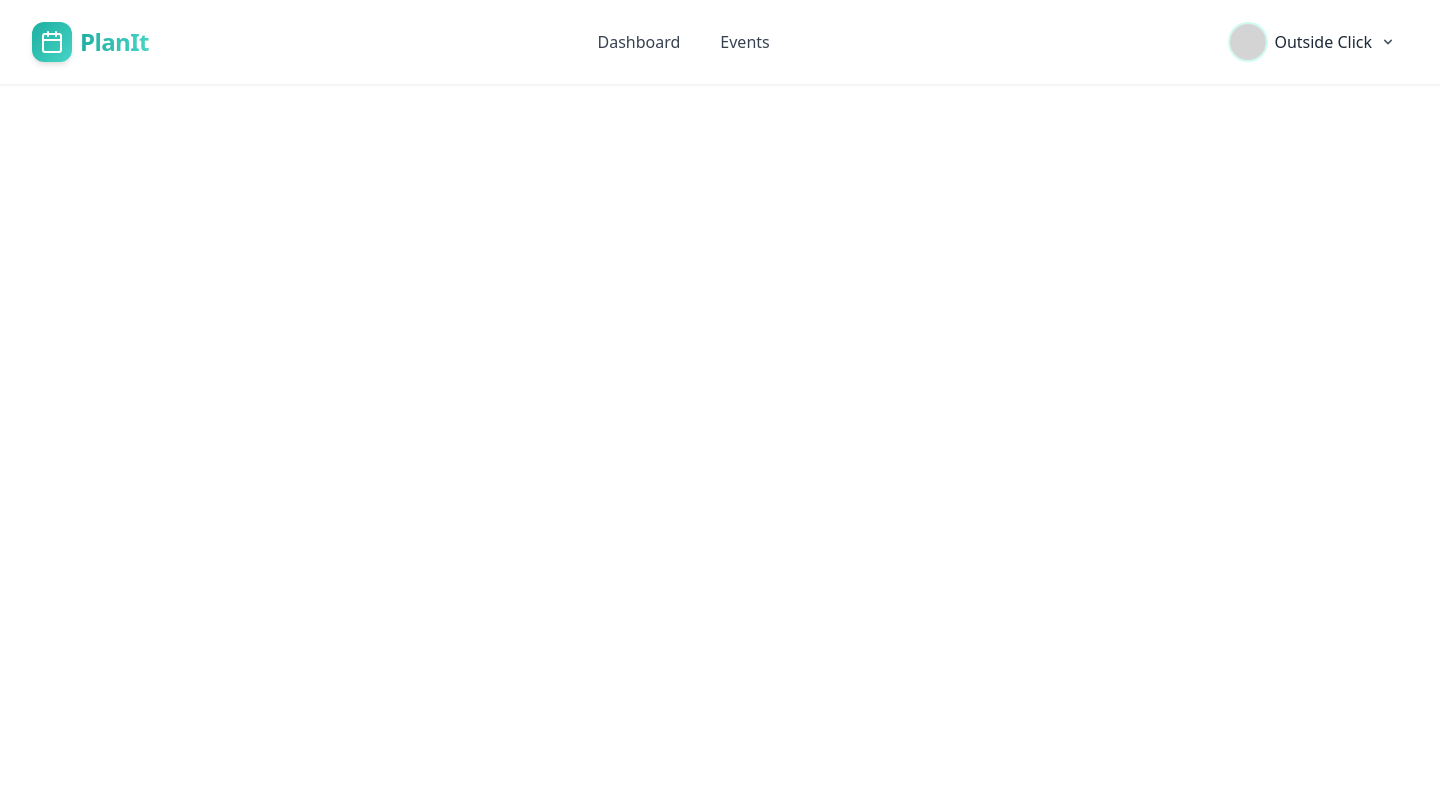
Test: Navbar Component › closes dropdown when clicking outside
Click the text "Outside Click" at point(1323, 42), box [1274,30,1372,54]
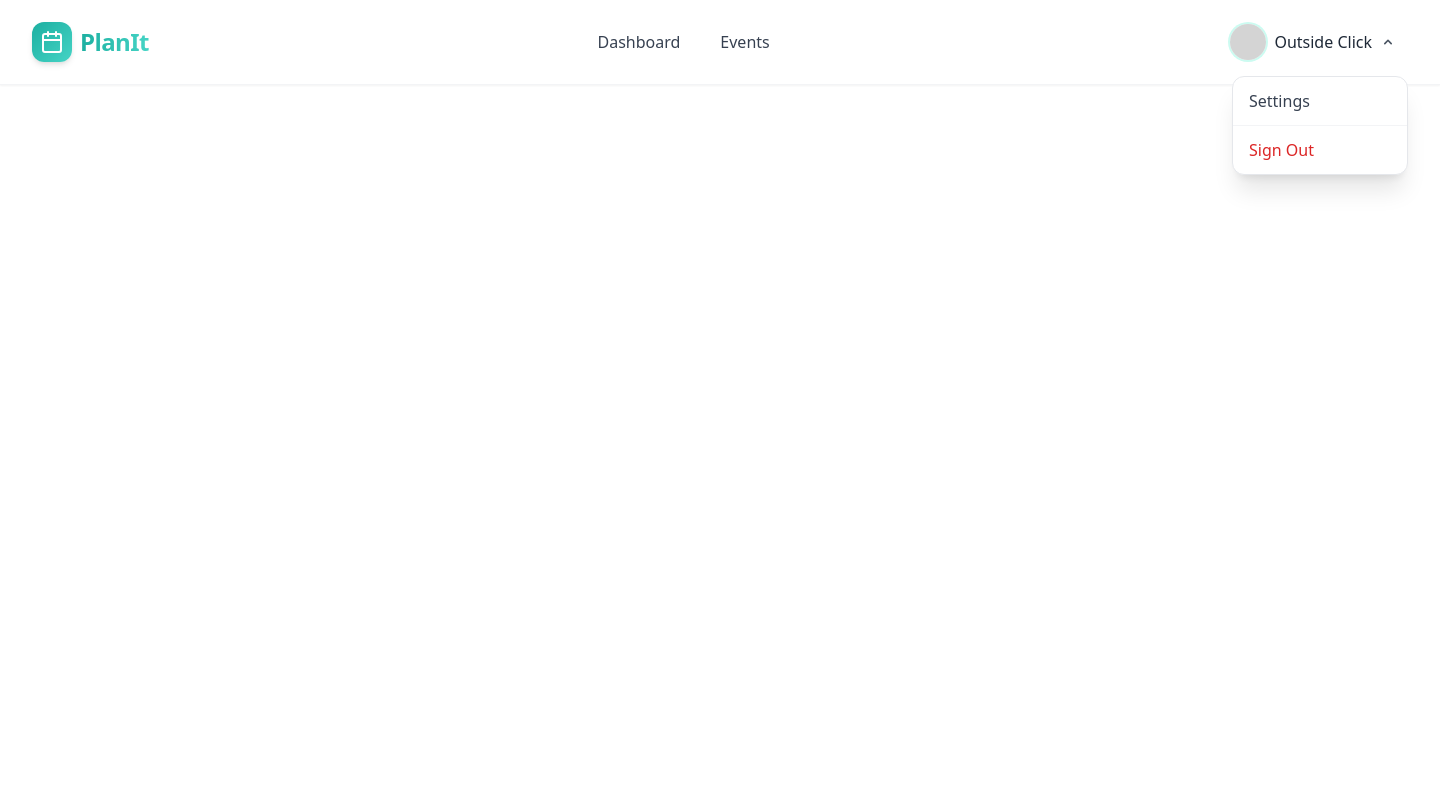
Result: the button "Settings" is shown at [1233,77,1407,125]
Press the mouse on the element showing "PlanIt Dashboard Events Outside Click Settings Sign Out" at point(720, 405), box [0,0,1439,809]
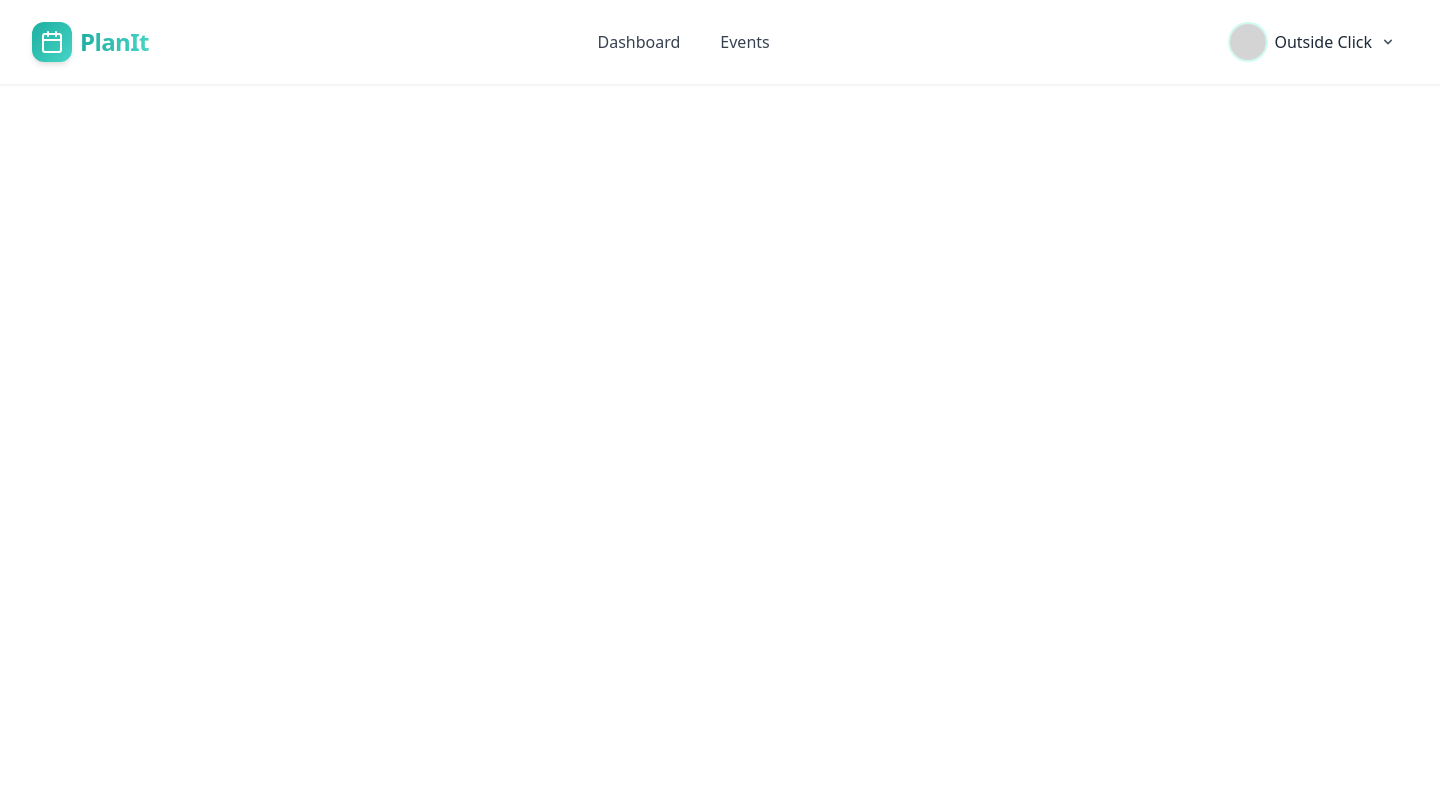
Result: the button "Settings" is gone
